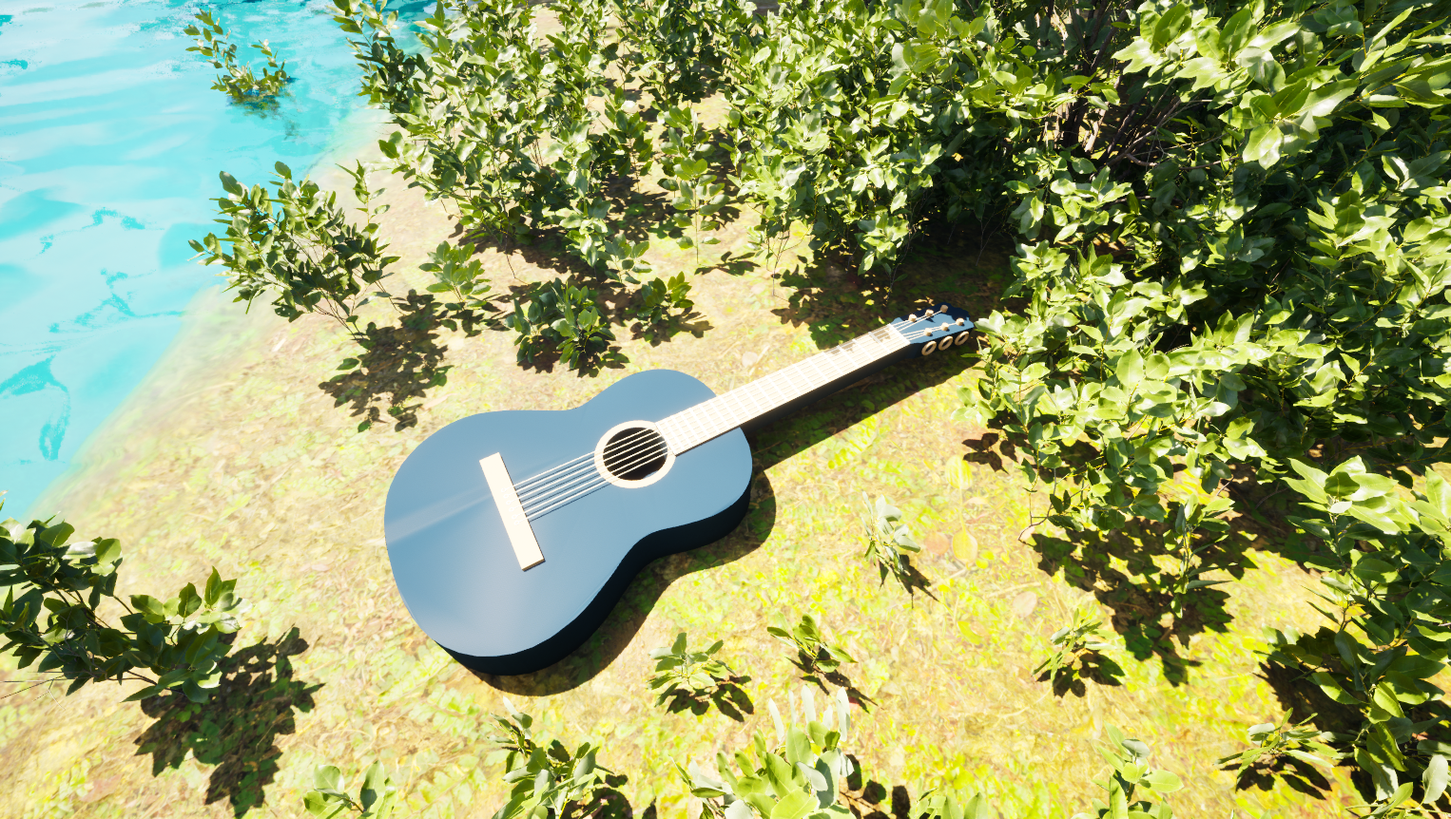Guitar: (361, 241, 1055, 721)
